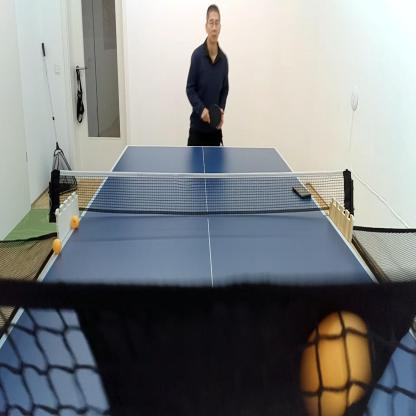Ball: (296, 305, 374, 416), (52, 236, 63, 257), (70, 213, 80, 231), (323, 202, 328, 214), (0, 241, 3, 252)
